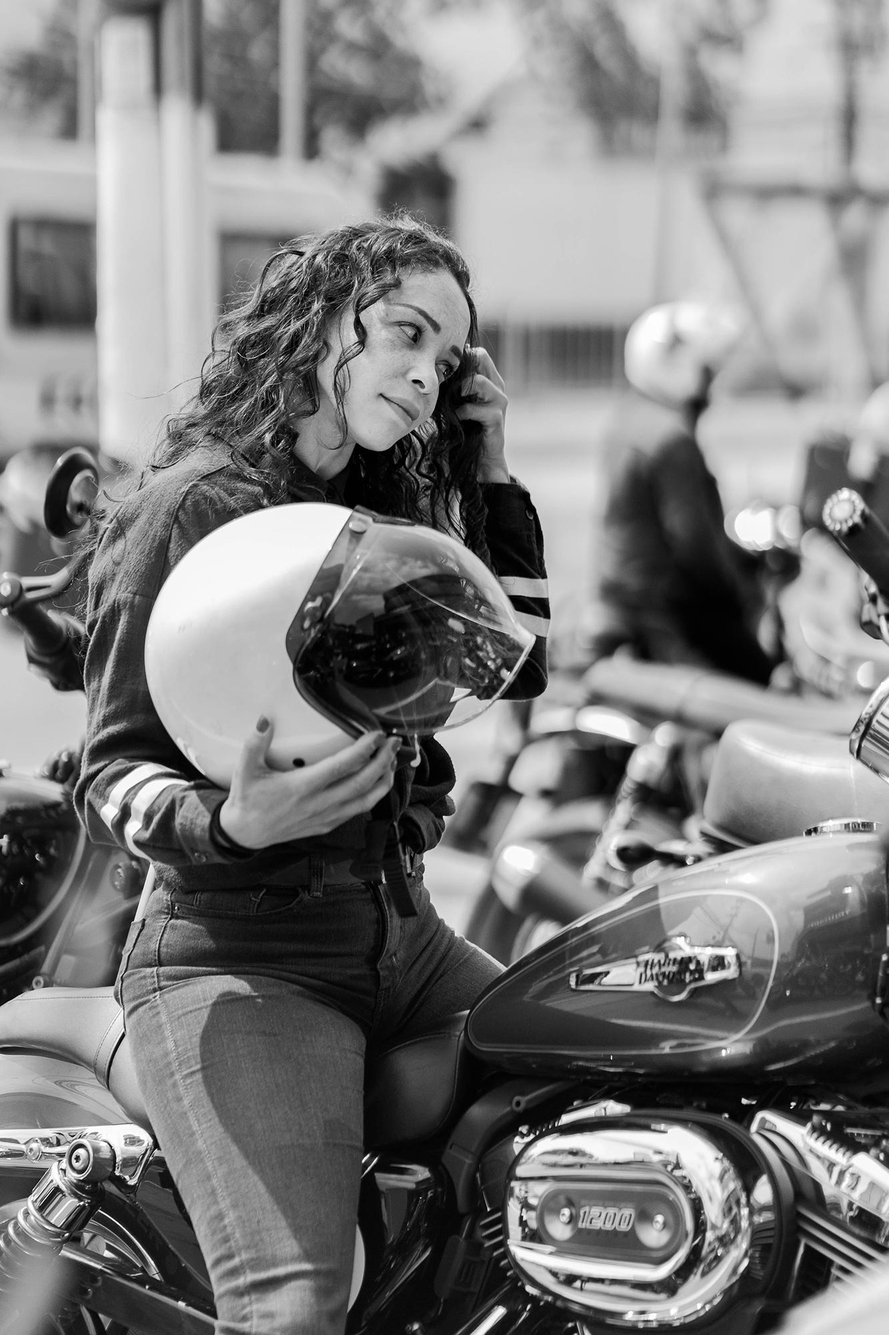helmet: (142, 499, 538, 818)
nohelmet: (219, 210, 474, 457)
